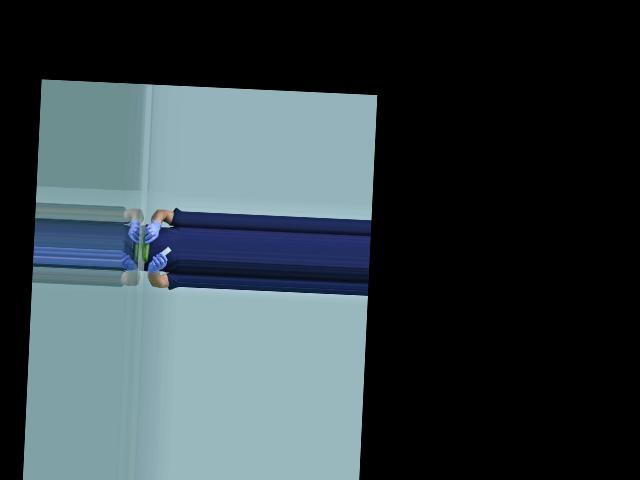cucumber: (141, 235, 149, 263)
